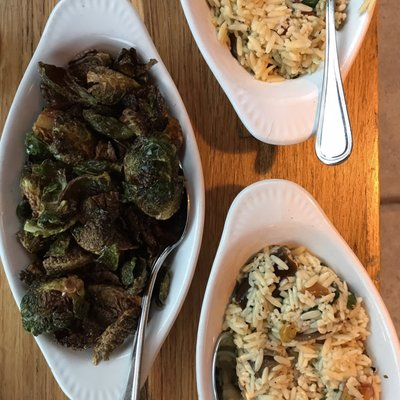burger: (313, 0, 352, 167)
salad: (314, 0, 353, 166)
sushi: (1, 8, 205, 399), (196, 179, 400, 400), (179, 0, 337, 146)
